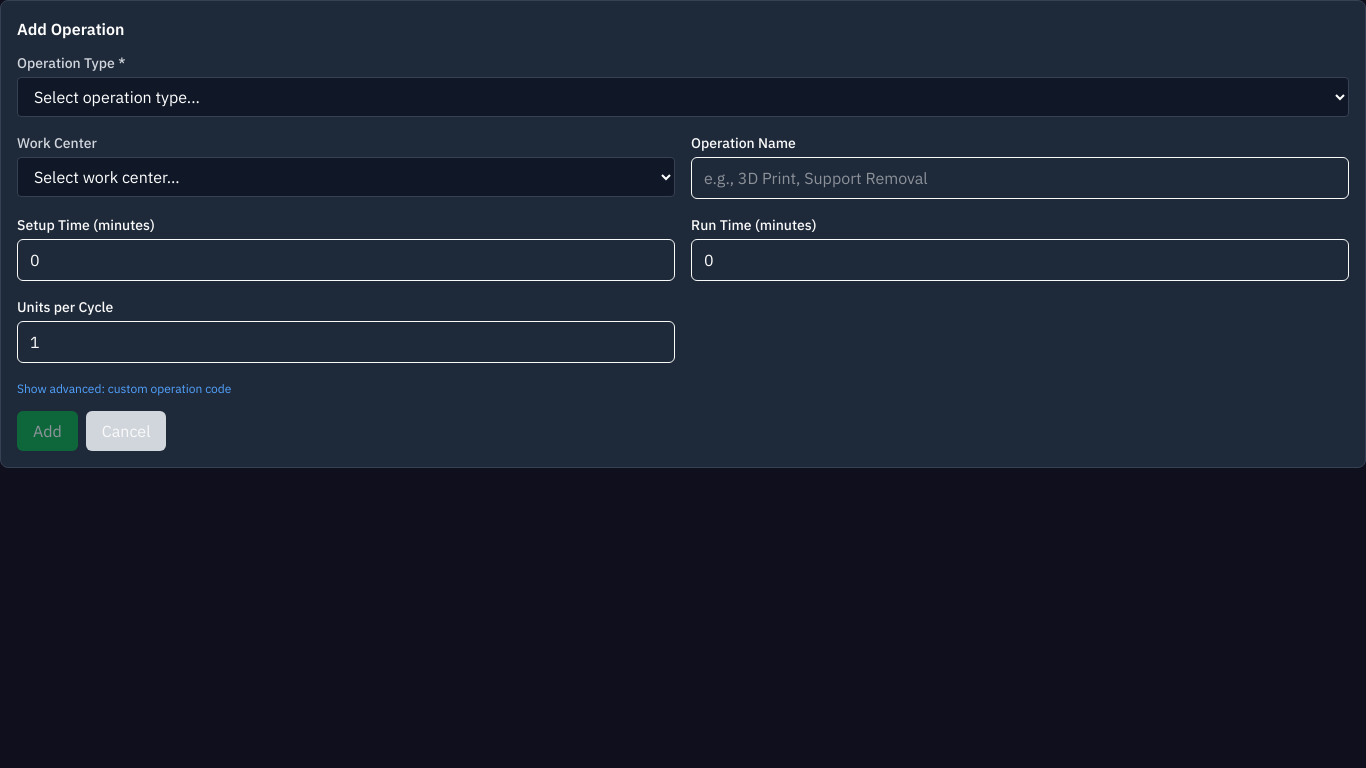
Scenario: AddOperationForm — operation type picker › pre-fills the advanced operation code with the type's canonical code
Select "Quality Control" in the dropdown labelled "Operation Type *" at (683, 97), box [17,77,1349,117]
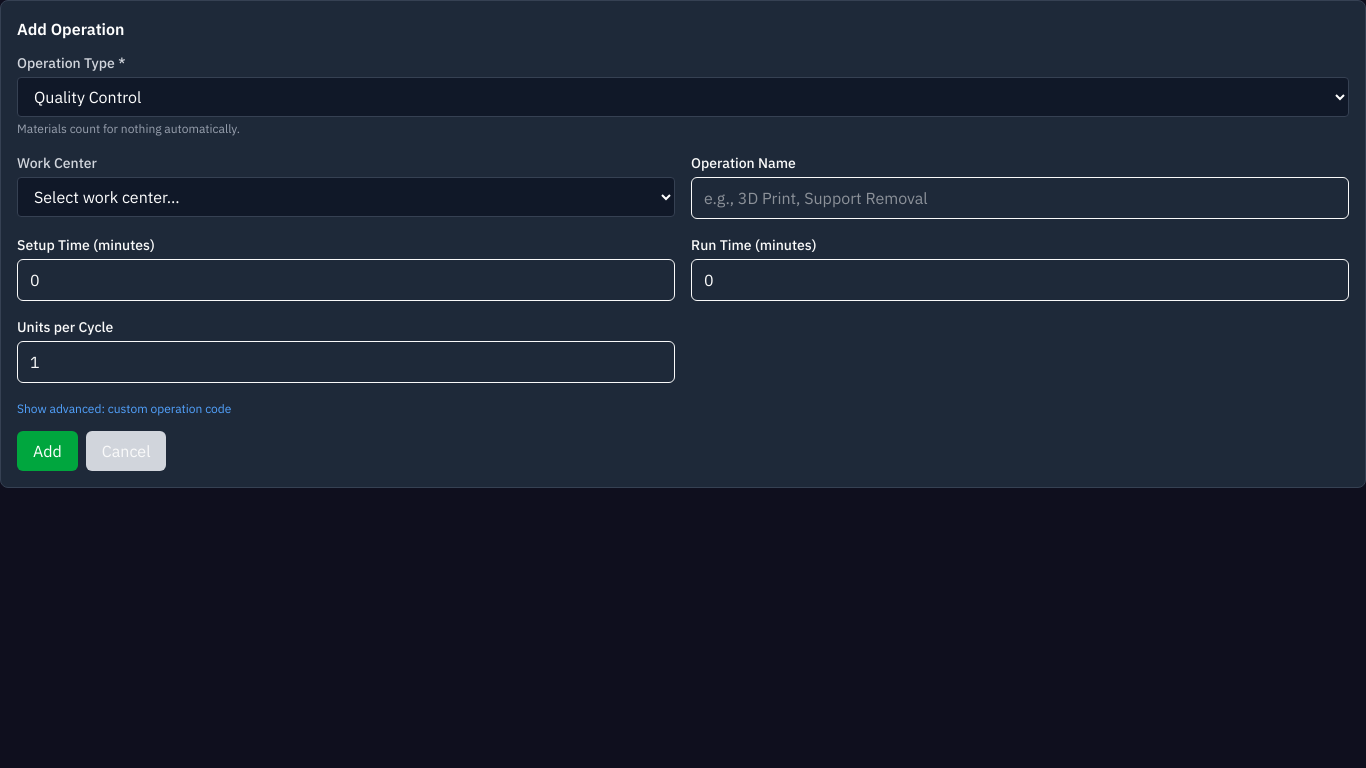
Click the button "Show advanced: custom operation code" at (124, 409), box [17,401,231,417]
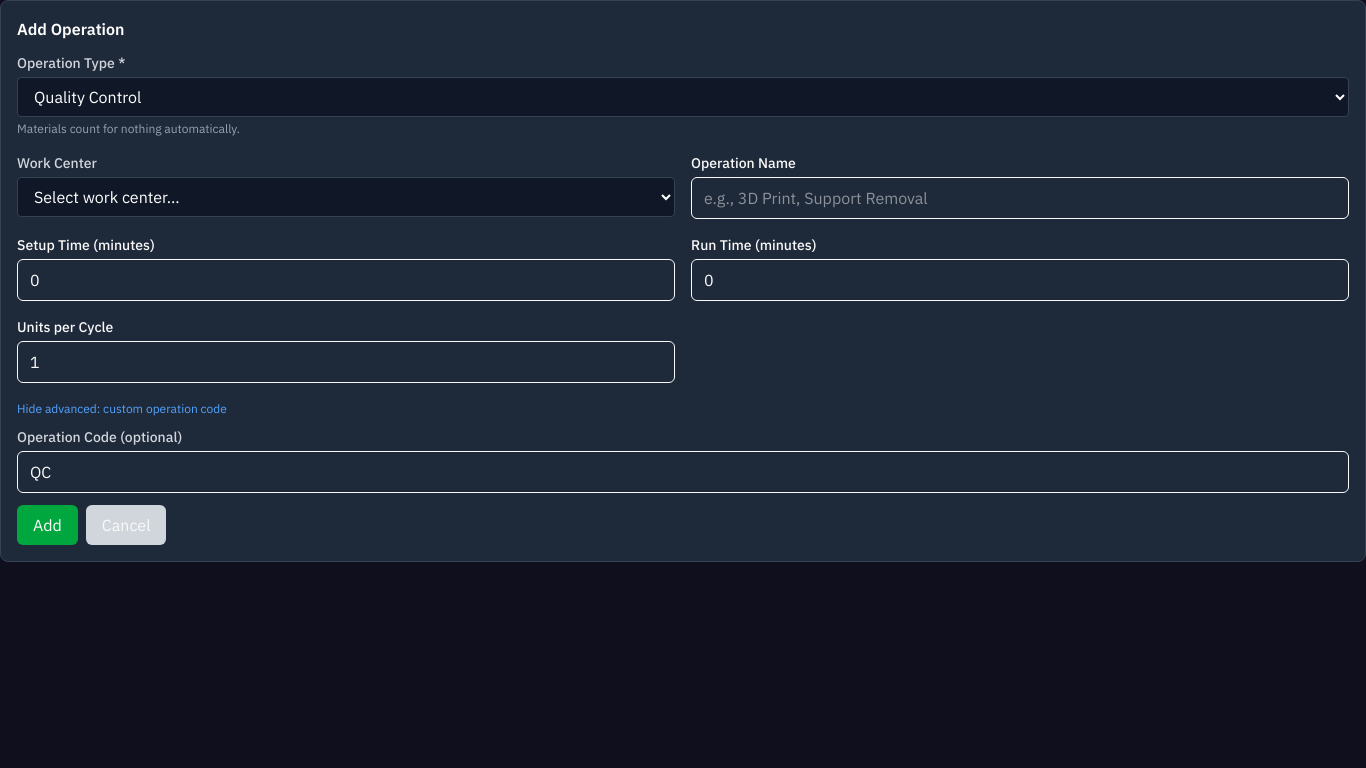
Expected: the field labelled "Operation Code (optional)" holds "QC", [17,451,1349,493]
